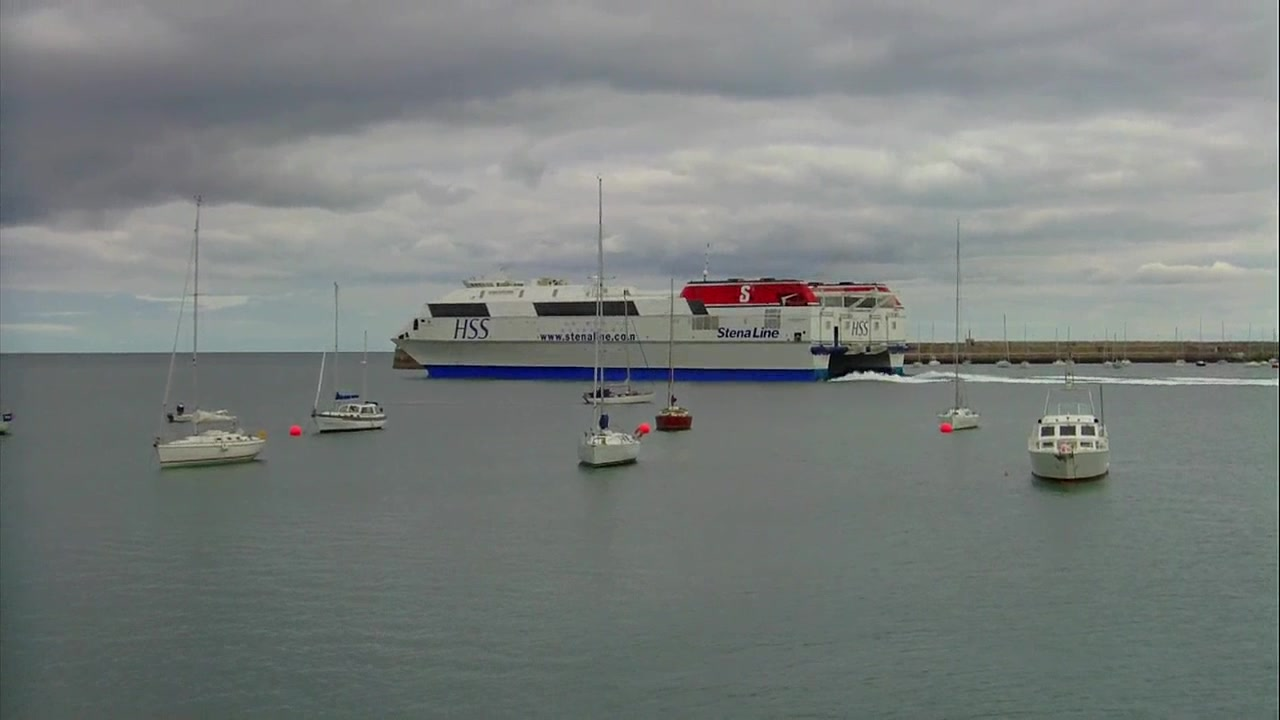boat: (396, 271, 912, 388)
